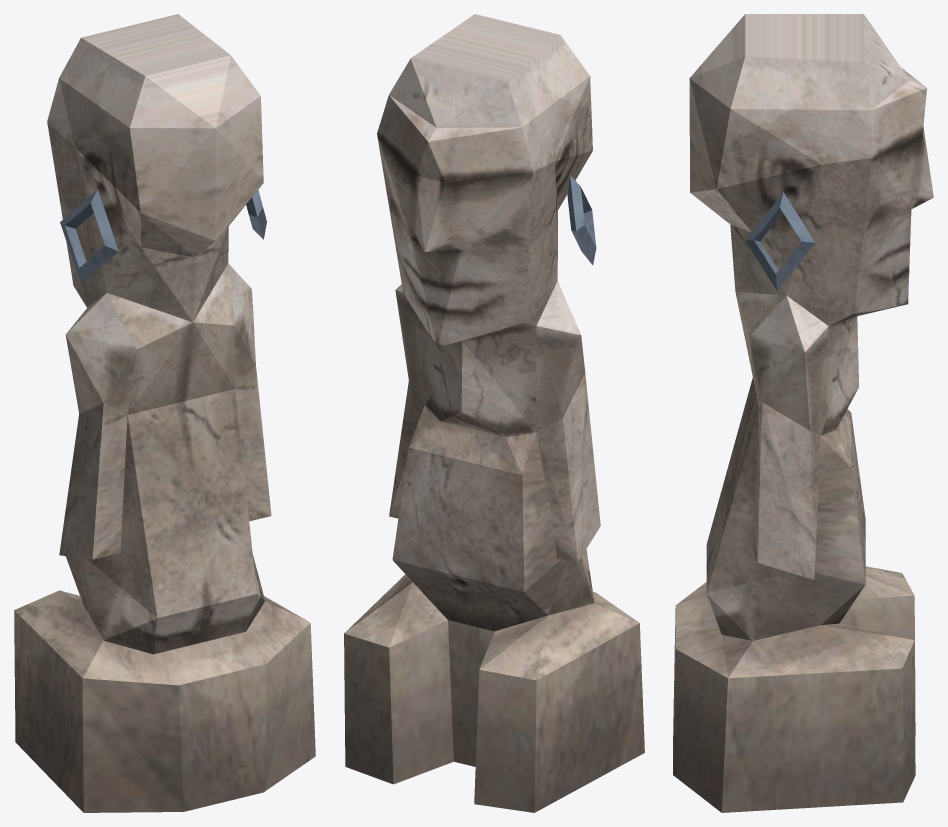
File: thm_dant_totem_pole_l3.fbx
The picture shows the model from 3 angles, left to right: view 1: azimuth 30°, elevation 25°; view 2: azimuth 150°, elevation 25°; view 3: azimuth 270°, elevation 25°; orthographic projection.
Parts seen in each view (by area): view 1: mesh_node; view 2: mesh_node; view 3: mesh_node.
Boxes of the visible parts, box(x1,y1,x2,y2) form: mesh_node: box(14, 14, 315, 812); mesh_node: box(344, 14, 644, 812); mesh_node: box(673, 14, 933, 812).
Size of the model in its own units: 2.33 by 6.8 by 2.23.
1 material, 1 textured.
